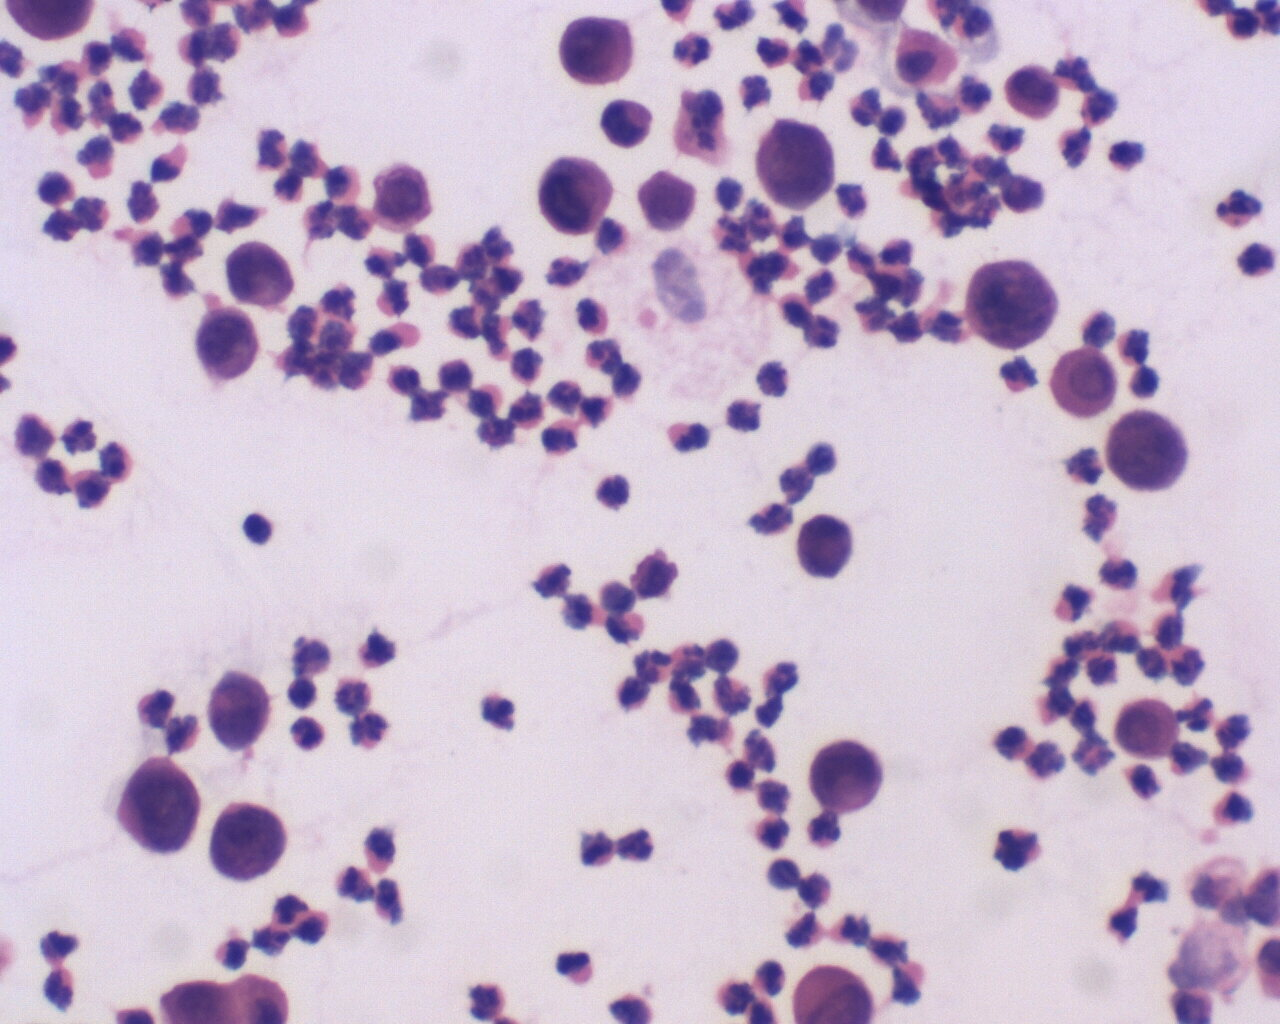ab: (964, 257, 1065, 350), (114, 757, 203, 855), (751, 119, 839, 217), (1101, 408, 1193, 494), (537, 150, 621, 242), (208, 798, 296, 882), (197, 668, 275, 753), (557, 13, 644, 89), (810, 734, 887, 818), (194, 305, 267, 387), (222, 239, 297, 312), (1111, 692, 1184, 766), (368, 158, 437, 236), (625, 168, 699, 235), (791, 511, 854, 581)
lymph: (238, 508, 278, 546)
meso: (1045, 342, 1121, 419)
neutro: (659, 410, 713, 456), (1215, 185, 1266, 232), (34, 965, 83, 1013), (475, 686, 520, 734), (575, 825, 618, 875), (996, 350, 1038, 398), (331, 864, 377, 907), (286, 712, 330, 755), (556, 946, 597, 987)
